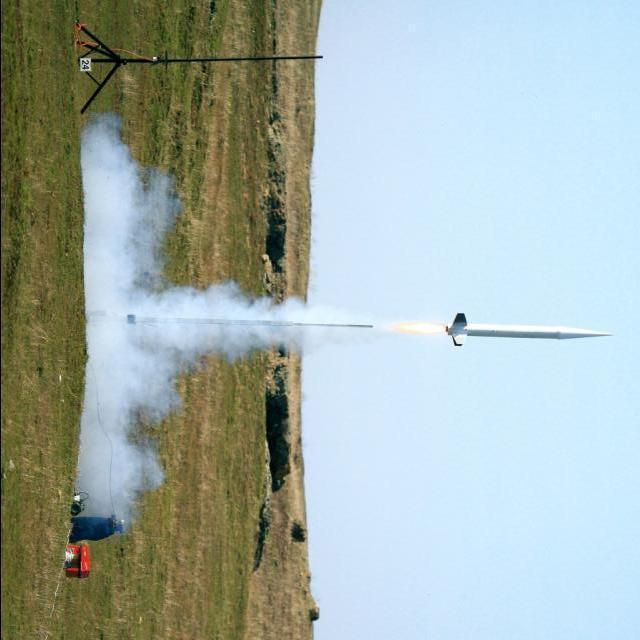missile: (430, 304, 613, 363)
